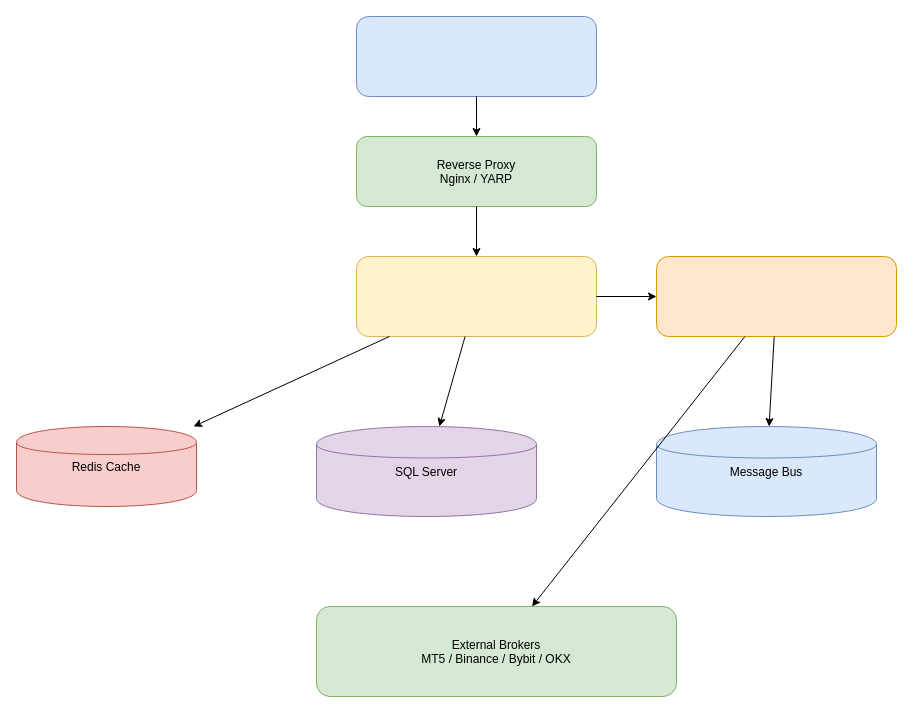
This 913x713 diagram has some shape labels left out. The shapes that lost their labels are listed below. From the top down, each one's box as (x1, y1, x2, y2) in pixels, then its label:
(356, 16, 596, 96): Clients Web / Desktop / Mobile
(356, 256, 596, 336): Trading API ASP.NET Core
(656, 256, 896, 336): Background Workers Market Sync / Events
